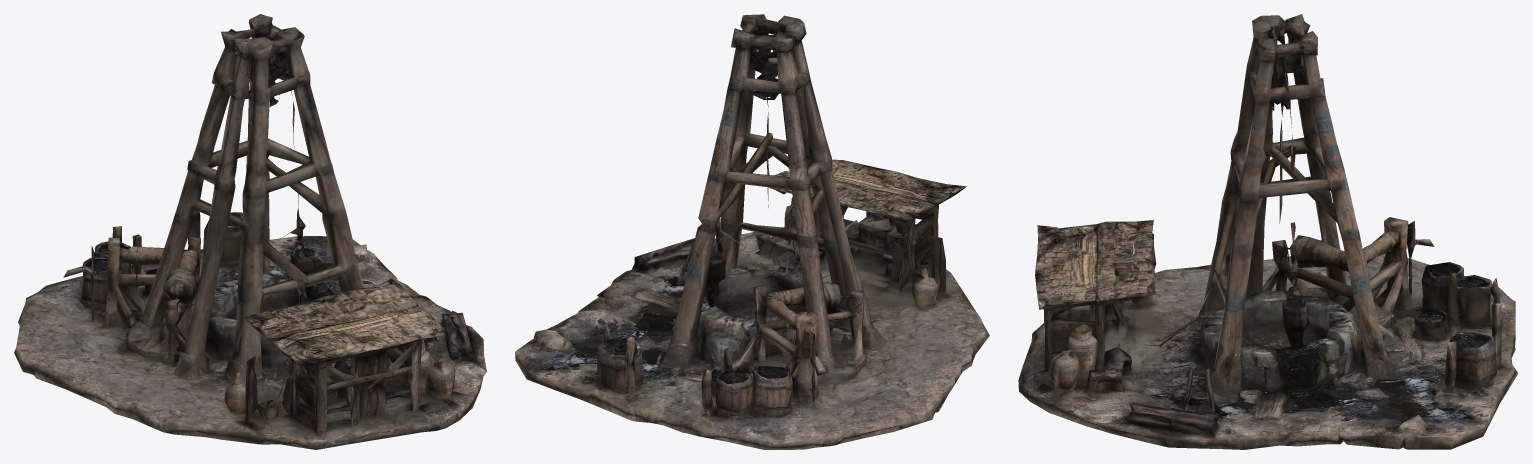
File: oil_well_0.glb
3 views of the same model, side by side, from view 1: azimuth 30°, elevation 25°; view 2: azimuth 150°, elevation 25°; view 3: azimuth 270°, elevation 25° (orthographic). The views are drawn at different scales.
Parts seen in each view (by area): view 1: tripo_node_f2880703-220d-4ee2-9635-848891718ba4; view 2: tripo_node_f2880703-220d-4ee2-9635-848891718ba4; view 3: tripo_node_f2880703-220d-4ee2-9635-848891718ba4.
Part boxes in pixels (x1,y1,x2,y2): tripo_node_f2880703-220d-4ee2-9635-848891718ba4: (14, 14, 486, 449); tripo_node_f2880703-220d-4ee2-9635-848891718ba4: (515, 14, 989, 449); tripo_node_f2880703-220d-4ee2-9635-848891718ba4: (1018, 14, 1518, 449).
Bounding box in the file's own units: 0.8845 × 0.7388 × 0.9821.
Materials: 1 (1 with a texture image).
